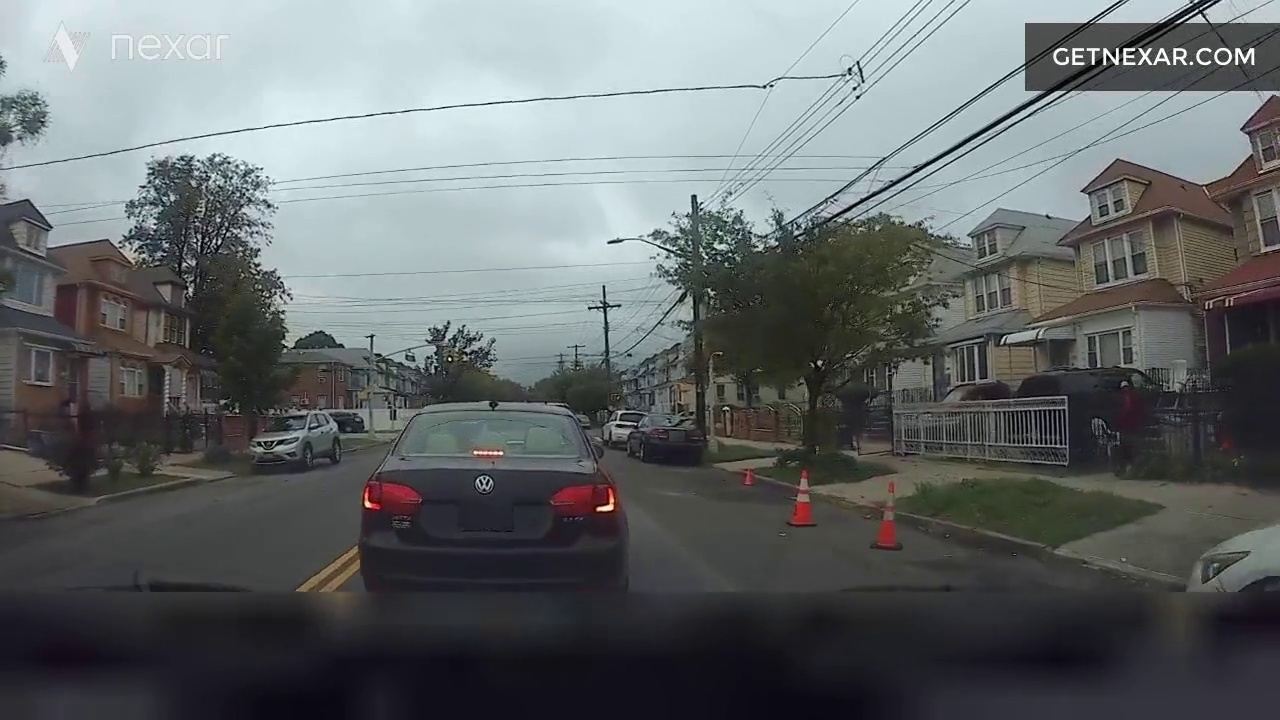car: (391, 391, 618, 615), (938, 325, 1149, 484), (225, 389, 351, 474), (628, 389, 728, 490)
person: (1103, 350, 1156, 478)
